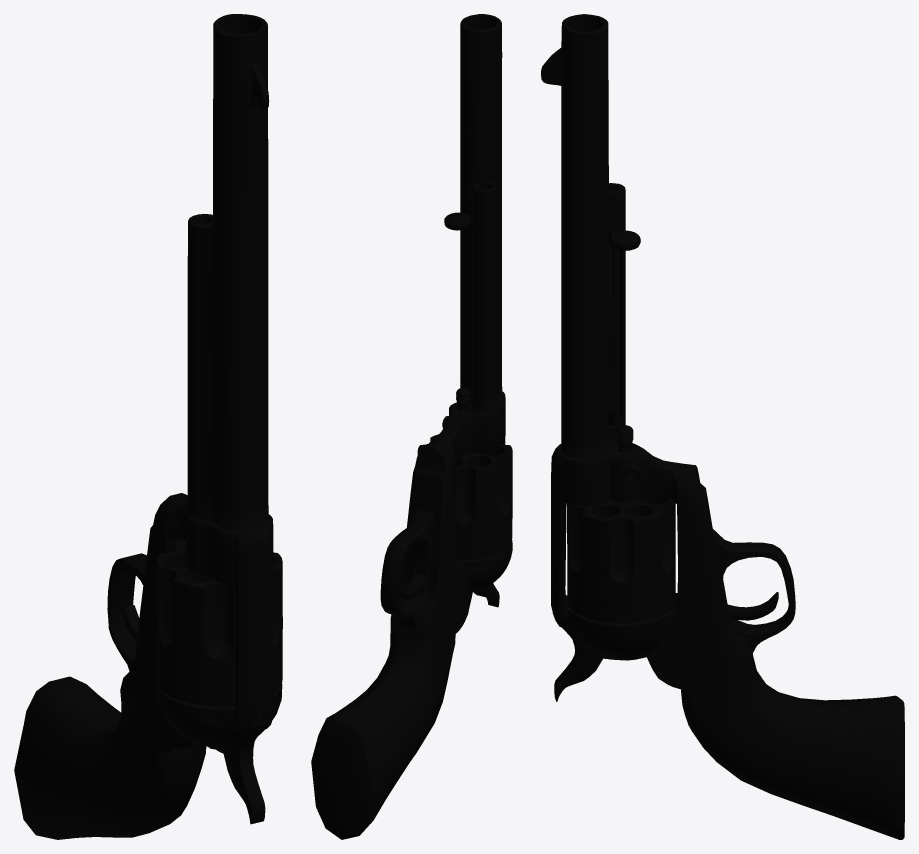
File: ColtSAA.fbx
3 renders of one model, left to right at view 1: azimuth 30°, elevation 25°; view 2: azimuth 150°, elevation 25°; view 3: azimuth 270°, elevation 25°, orthographic. The views are drawn at different scales.
Parts seen in each view (by area): view 1: asset_ColtSAA.001; view 2: asset_ColtSAA.001; view 3: asset_ColtSAA.001.
Boxes of the visible parts, box(x1,y1,x2,y2) form: asset_ColtSAA.001: box(14, 14, 282, 839); asset_ColtSAA.001: box(311, 14, 512, 839); asset_ColtSAA.001: box(541, 14, 904, 839).
Size of the model in its own units: 0.0192 by 0.159 by 0.0642.
